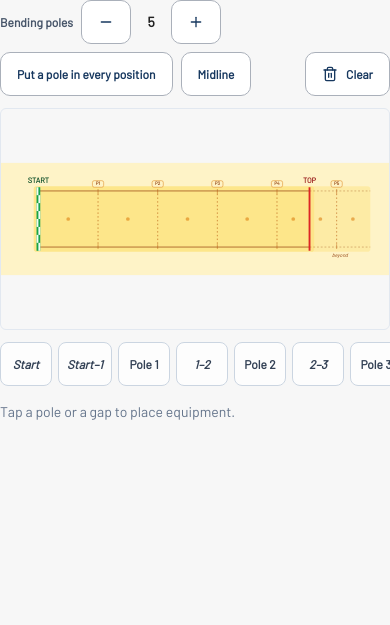
Test: DiagramEditor › places a cone between two poles, then shows it as selected
Click the button named "Between pole 2 and pole 3": (318, 364) [292, 342, 344, 386]
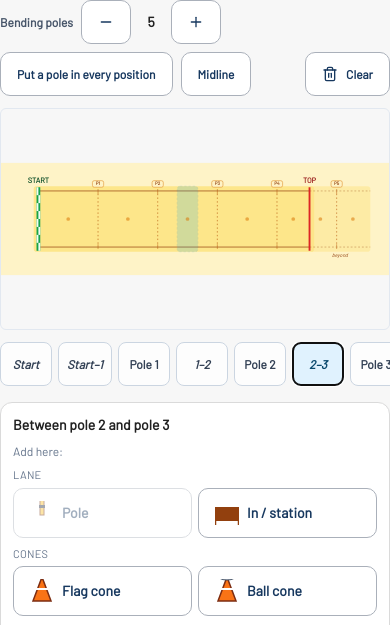
Expected: the element with test id "slot-panel" shows "Between pole 2 and pole 3", [13, 416, 169, 433]
Click the button "Flag cone": (102, 591) [13, 566, 192, 616]
(page scrolled)
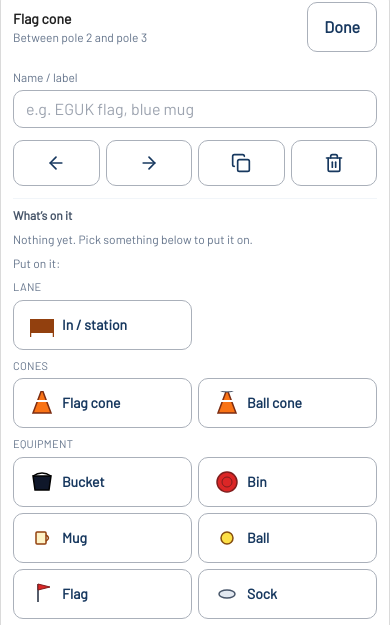
Expected: the element with test id "selected-panel" shows "Flag cone", [13, 10, 71, 27]
